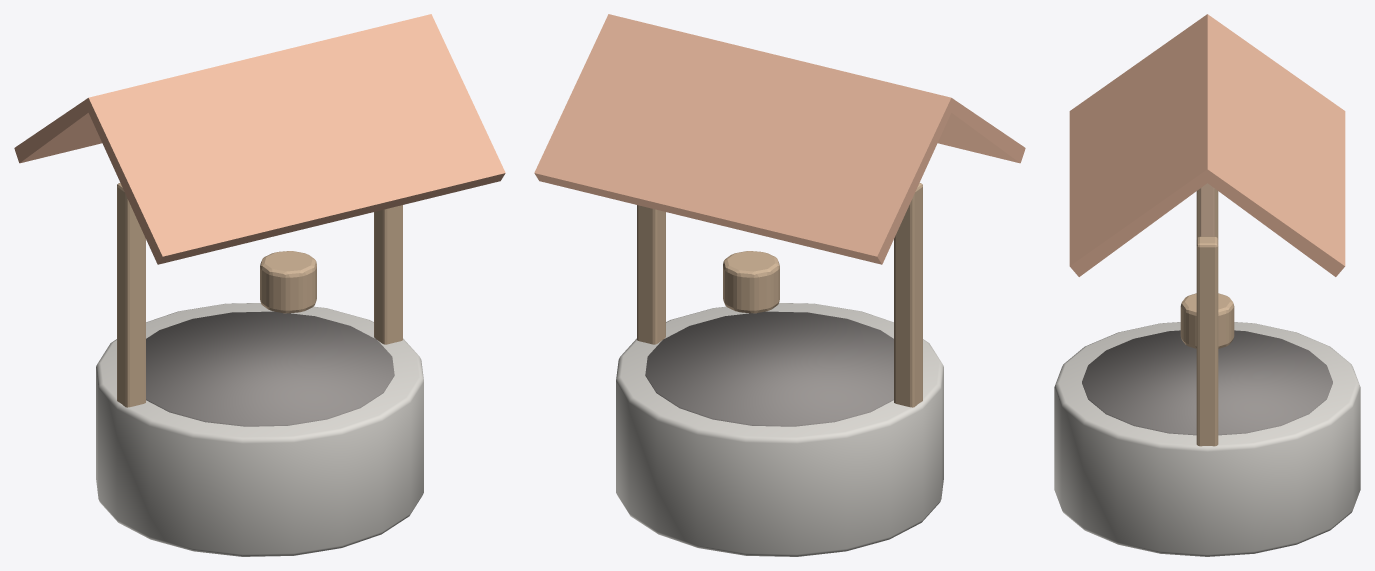
File: camp_well.glb
3 views of the same model, side by side, from view 1: azimuth 30°, elevation 25°; view 2: azimuth 150°, elevation 25°; view 3: azimuth 270°, elevation 25° (orthographic). The views are drawn at different scales.
Visible parts, largest first — view 1: camp_well; view 2: camp_well; view 3: camp_well.
Part boxes in pixels (<box>): camp_well: <box>14,14,505,556</box>; camp_well: <box>534,14,1025,556</box>; camp_well: <box>1054,14,1360,556</box>.
Bounding box in the file's own units: 2.4 × 2.9 × 2.
